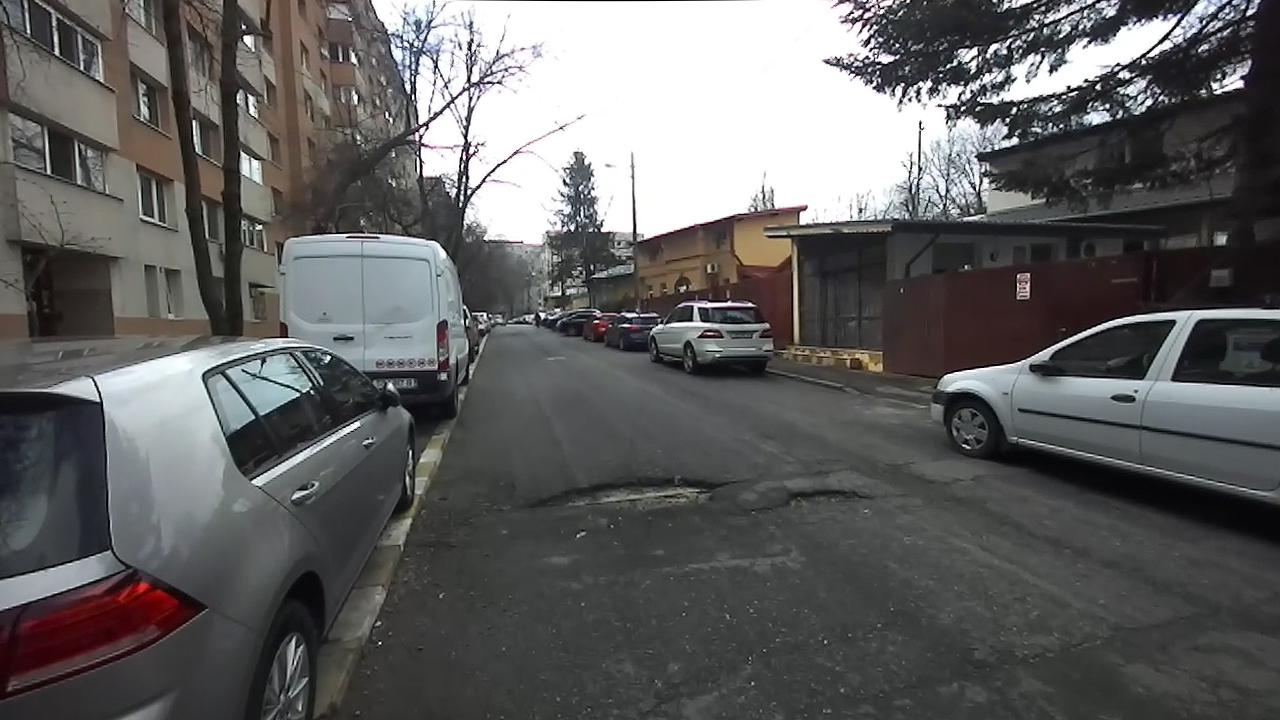pothole: (516, 470, 747, 517), (750, 484, 876, 513)
